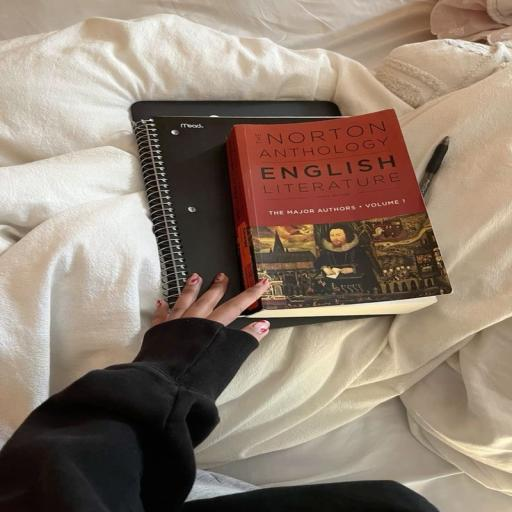bed: (227, 110, 451, 316)
